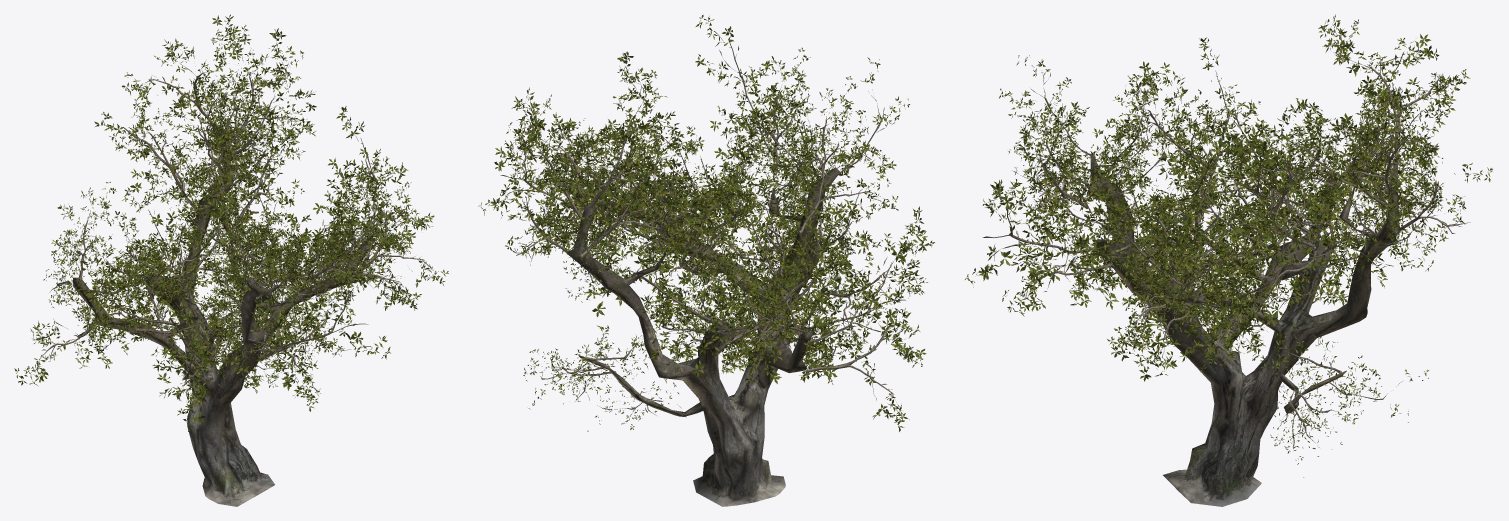
Rendered from island_tree_01.glb.
3 renders of one model, left to right at view 1: azimuth 30°, elevation 25°; view 2: azimuth 150°, elevation 25°; view 3: azimuth 270°, elevation 25°, orthographic. The views are drawn at different scales.
Visible parts, largest first — view 1: island_tree_01_LOD0; view 2: island_tree_01_LOD0; view 3: island_tree_01_LOD0.
Boxes of the visible parts, x1,y1,x2,y2 form: island_tree_01_LOD0: (14, 14, 448, 506); island_tree_01_LOD0: (478, 15, 934, 506); island_tree_01_LOD0: (965, 14, 1492, 506).
Size of the model in its own units: 4.74 by 5.02 by 4.82.
3 materials, 3 textured.
